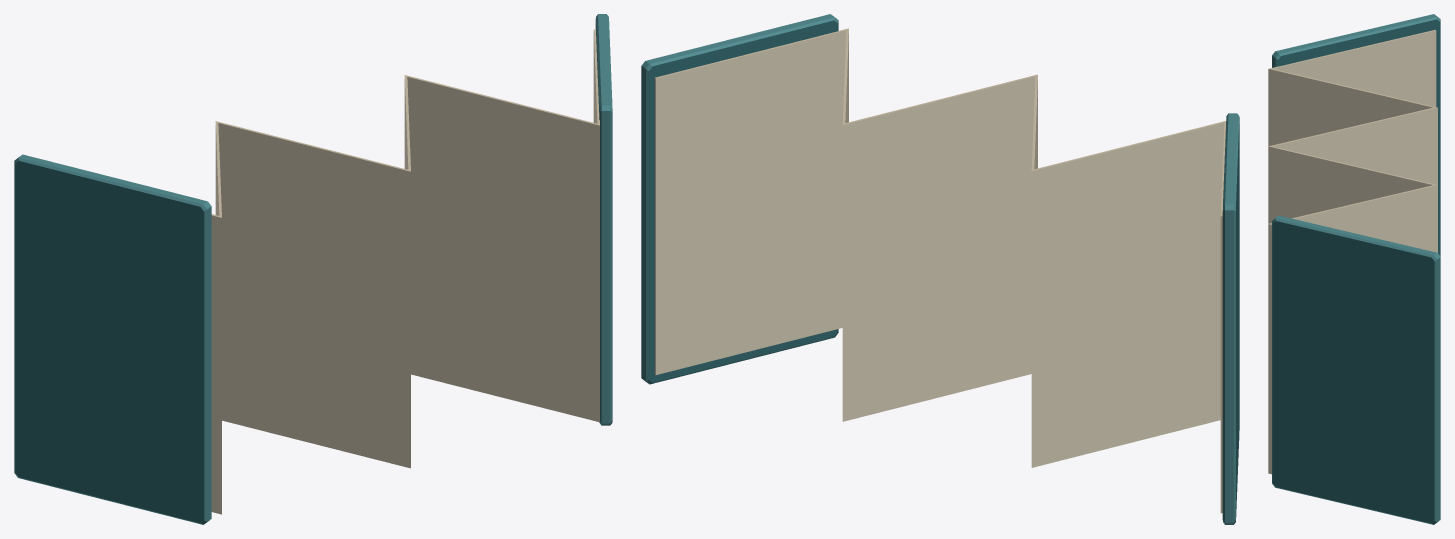
3 renders of one model, left to right at view 1: azimuth 30°, elevation 25°; view 2: azimuth 150°, elevation 25°; view 3: azimuth 270°, elevation 25°, orthographic. The views are drawn at different scales.
Parts seen in each view (by area): view 1: WholeContinuousSixPanelConcertinaLeaf, WholeFrontPlainEndBoard, WholeRearPlainEndBoard; view 2: WholeContinuousSixPanelConcertinaLeaf, WholeRearPlainEndBoard, WholeFrontPlainEndBoard; view 3: WholeRearPlainEndBoard, WholeContinuousSixPanelConcertinaLeaf, WholeFrontPlainEndBoard.
Part boxes in pixels (left/top/right/bottom): WholeContinuousSixPanelConcertinaLeaf: left=211, top=29, right=599, bottom=514; WholeFrontPlainEndBoard: left=14, top=154, right=211, bottom=524; WholeRearPlainEndBoard: left=595, top=14, right=612, bottom=425; WholeContinuousSixPanelConcertinaLeaf: left=654, top=28, right=1226, bottom=513; WholeRearPlainEndBoard: left=641, top=14, right=838, bottom=384; WholeFrontPlainEndBoard: left=1222, top=113, right=1239, bottom=524; WholeRearPlainEndBoard: left=1272, top=215, right=1440, bottom=524; WholeContinuousSixPanelConcertinaLeaf: left=1268, top=30, right=1437, bottom=474; WholeFrontPlainEndBoard: left=1272, top=14, right=1440, bottom=256.
Size of the model in its own units: 0.3141 by 0.162 by 0.0941.
